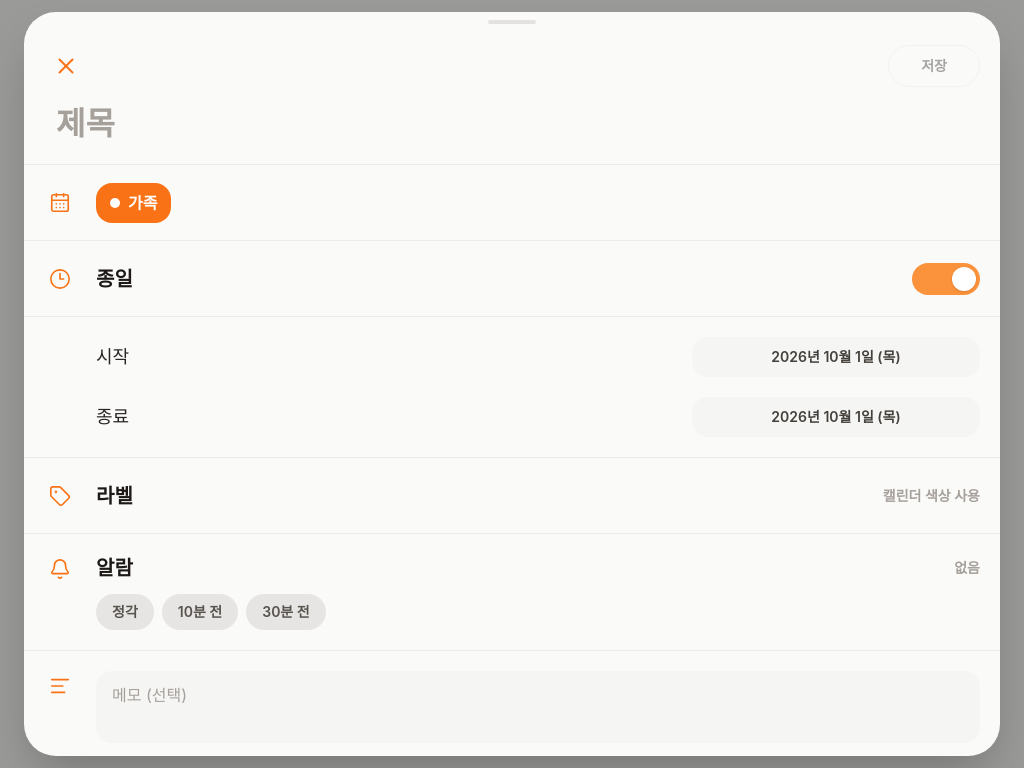
Scenario: EventFormModal › 제목 입력 후 저장 버튼이 활성화된다
This screenshot has width=1024, height=768.
Type "테스트 일정" into the dropdown with placeholder "제목".
click(512, 124); type("테스트 일정")  # box [56,104,968,144]
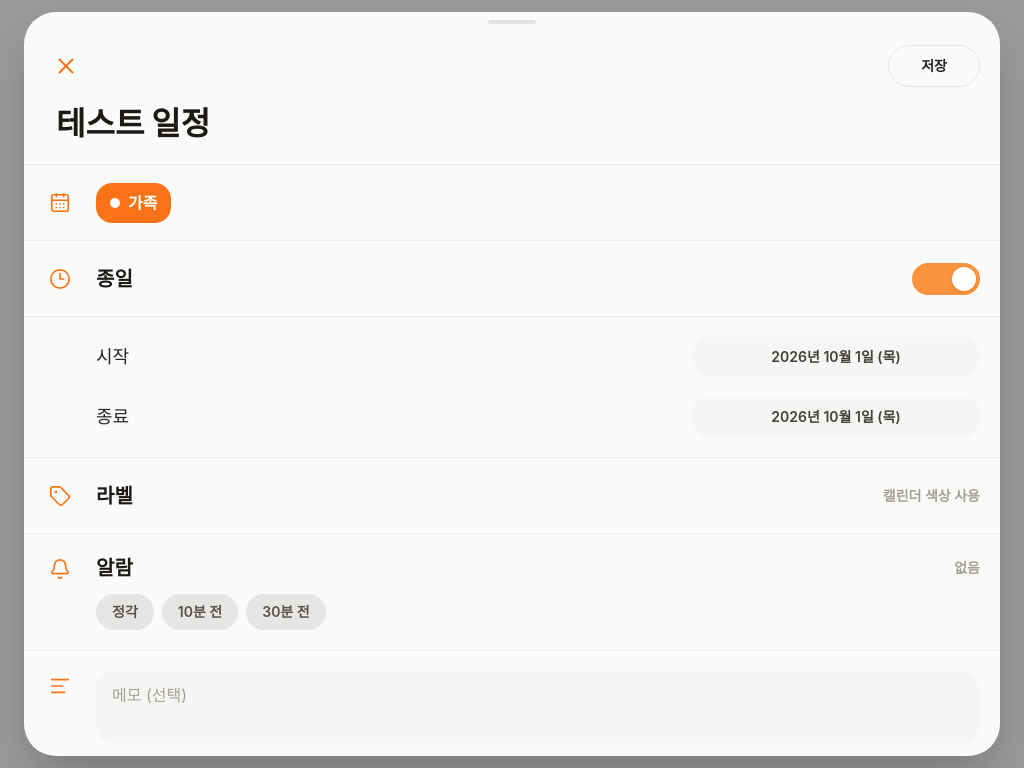
Result: the button "저장" is enabled at [888,45,980,87]
